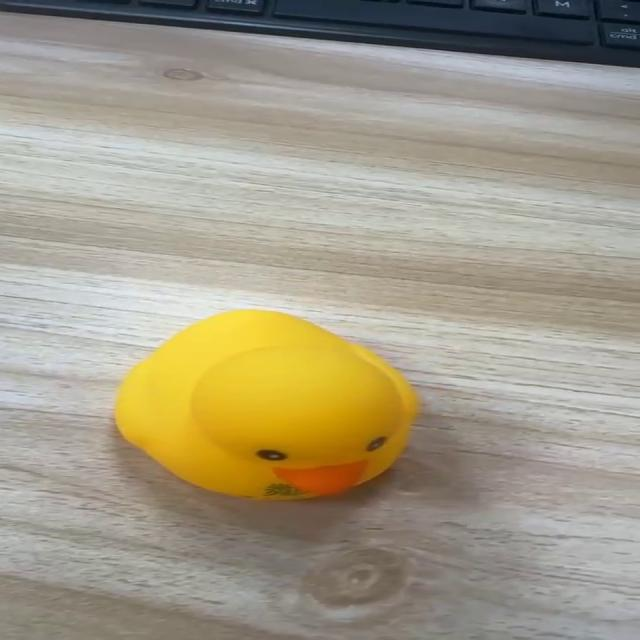yellow_duck: (111, 307, 421, 501)
